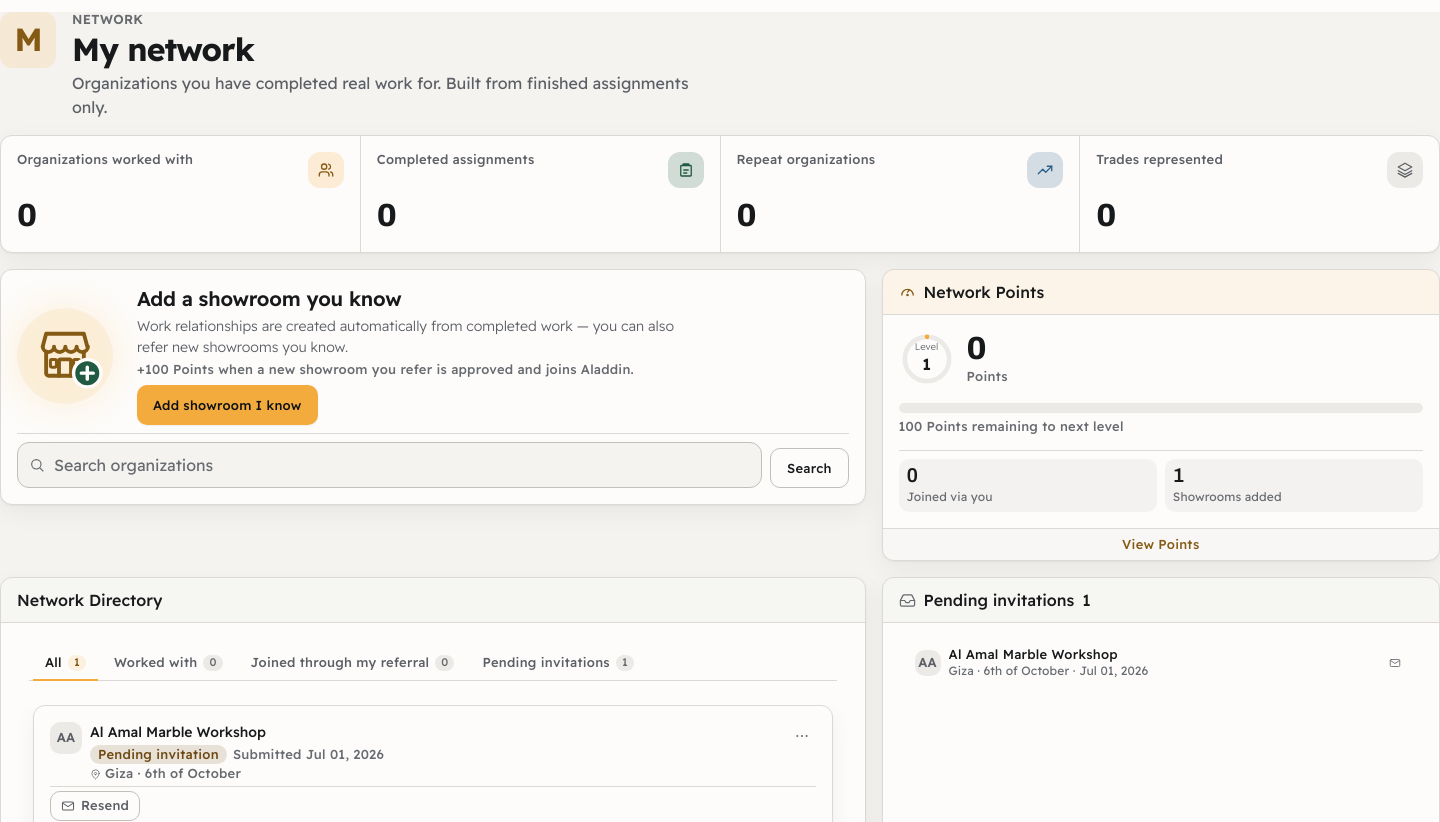
Test: NetworkPage — Pending Invitations panel (revisit §13/§14) › falls back to a clipboard copy, with honest 'copied' wording, when the Web Share API is unavailable
Click the button with test id "resend-button": point(95, 806) [50,791,140,820]
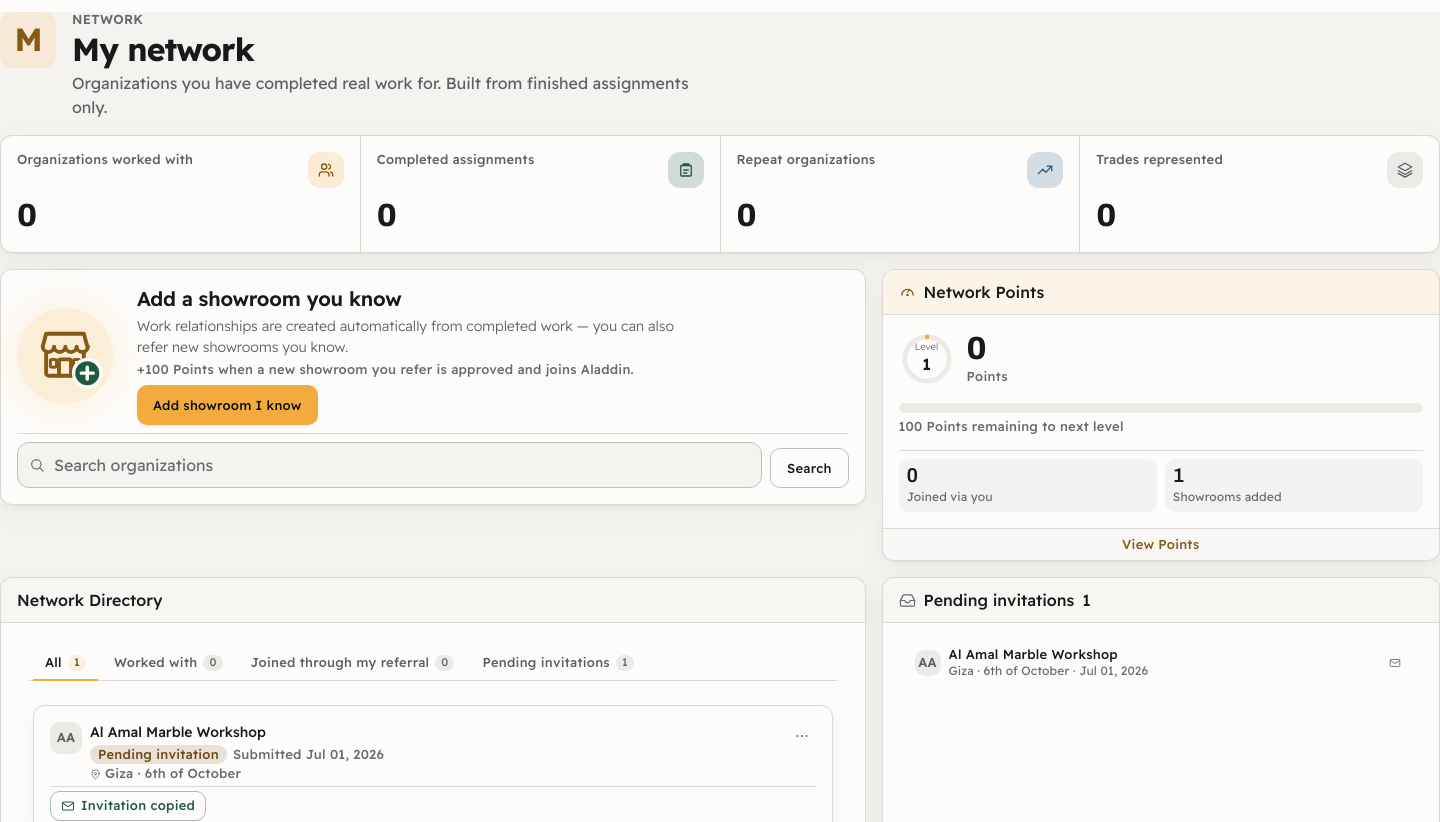
expect the button "Invitation copied" is shown: met, box [50,791,206,820]
